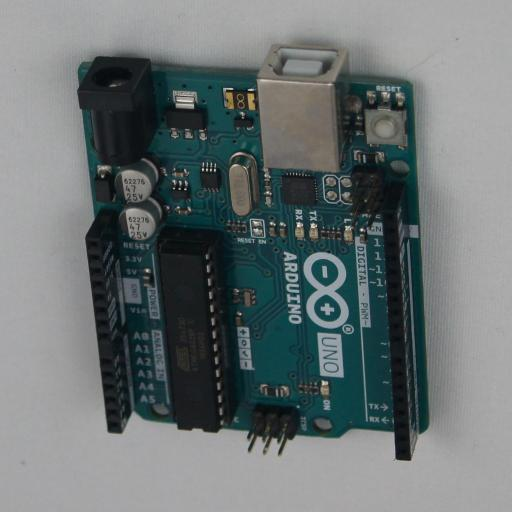Arduino Uno -Green-: (78, 46, 430, 460)
